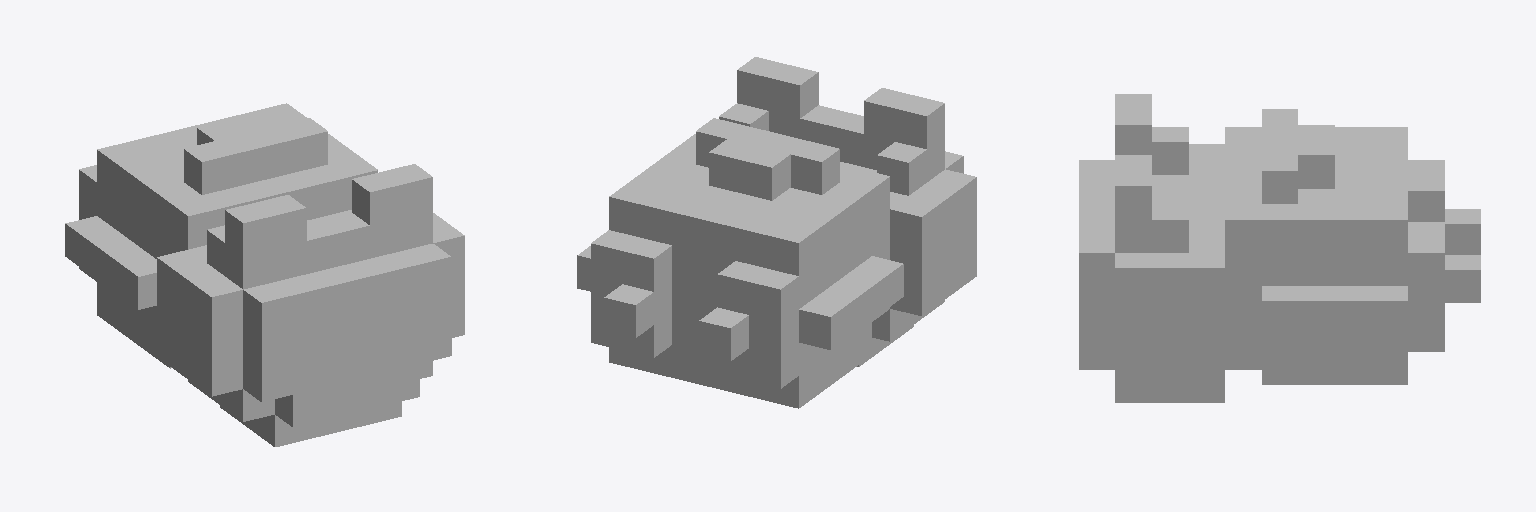
Rendered from beardo.obj.
3 renders of one model, left to right at view 1: azimuth 30°, elevation 25°; view 2: azimuth 150°, elevation 25°; view 3: azimuth 270°, elevation 25°, orthographic.
Parts seen in each view (by area): view 1: Model; view 2: Model; view 3: Model.
Part boxes in pixels (x1,y1,x2,y2): Model: (65, 103, 464, 446); Model: (577, 57, 976, 408); Model: (1079, 94, 1480, 402).
Size of the model in its own units: 0.8 by 0.7 by 1.1.